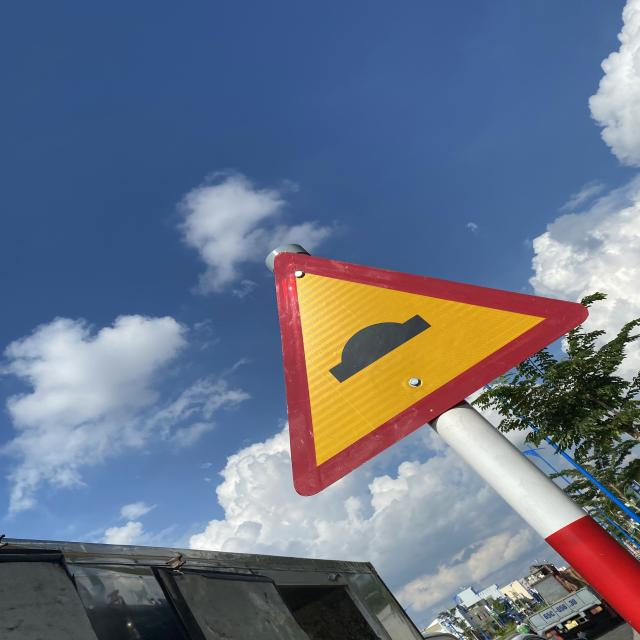Duong_Cong_Ben_Phai: (275, 250, 589, 498)
